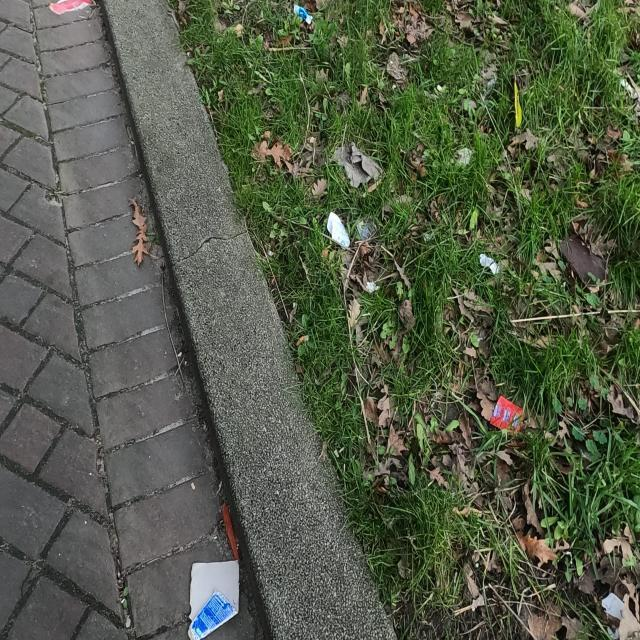Paper: (184, 552, 244, 640), (602, 592, 624, 640), (327, 211, 350, 248), (48, 0, 92, 15), (480, 253, 500, 274), (366, 281, 380, 293)
Plastic: (489, 395, 528, 438), (294, 4, 314, 25)
